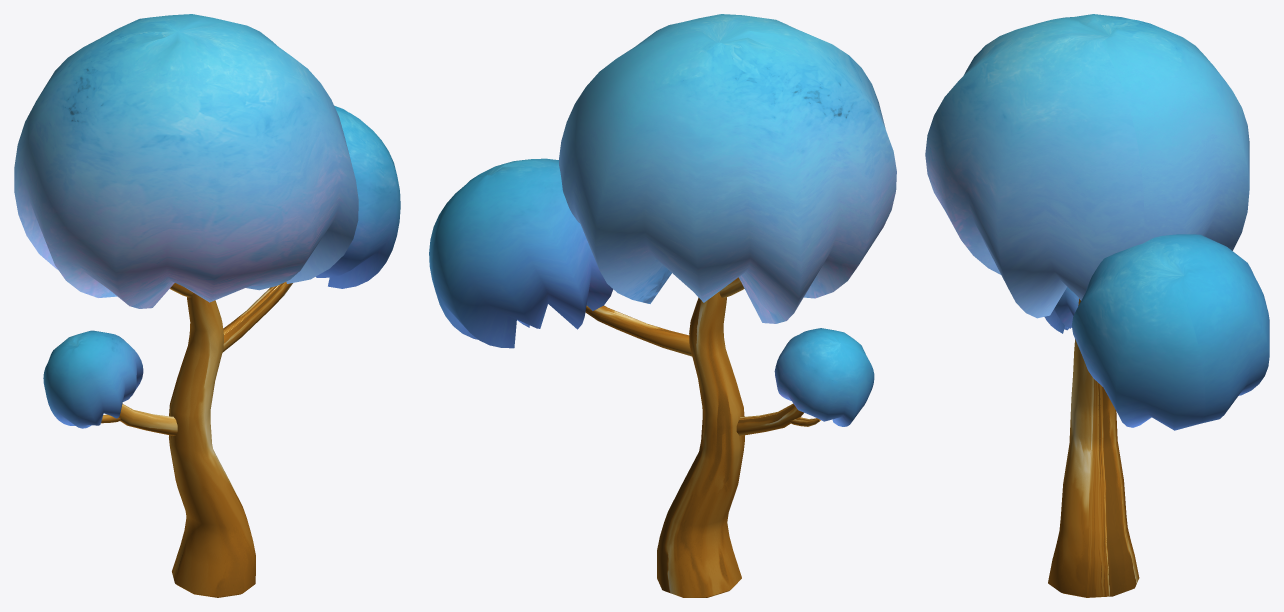
The model's file is test tree.fbx.
The picture shows the model from 3 angles, left to right: view 1: azimuth 30°, elevation 25°; view 2: azimuth 150°, elevation 25°; view 3: azimuth 270°, elevation 25°; orthographic projection. The views are drawn at different scales.
Parts seen in each view (by area): view 1: polySurface7, polySurface8, polySurface1, polySurface2, polySurface5, polySurface4; view 2: polySurface7, polySurface2, polySurface8, polySurface1, polySurface5, polySurface4; view 3: polySurface7, polySurface2, polySurface8, polySurface1.
Boxes of the visible parts, x1,y1,x2,y2 form: polySurface7: (14,14,358,308); polySurface8: (169,293,255,597); polySurface1: (43,330,143,428); polySurface2: (316,105,400,288); polySurface5: (222,282,292,352); polySurface4: (119,403,177,435); polySurface7: (558,14,896,323); polySurface2: (429,158,613,348); polySurface8: (657,291,744,597); polySurface1: (774,328,874,426); polySurface5: (585,305,692,356); polySurface4: (736,403,803,435); polySurface7: (925,14,1249,318); polySurface2: (1071,234,1269,430); polySurface8: (1048,298,1139,597); polySurface1: (1044,287,1078,333).
Size of the model in its own units: 10.13 by 13.93 by 8.07.
